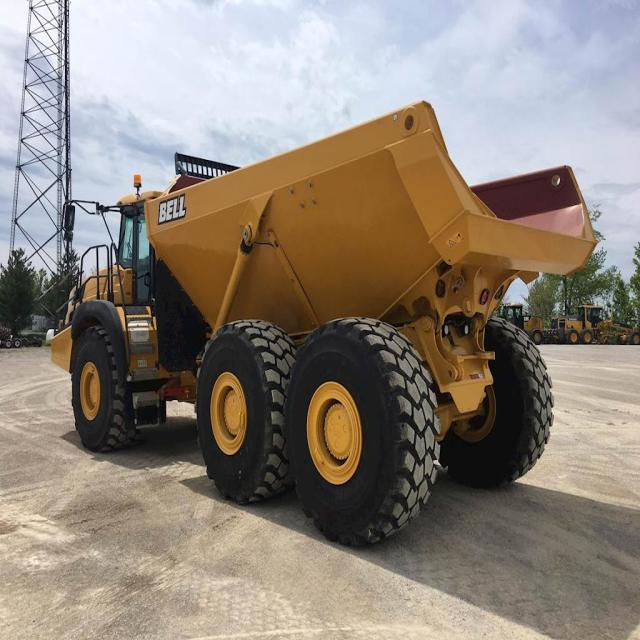dump_truck: (38, 100, 602, 545)
